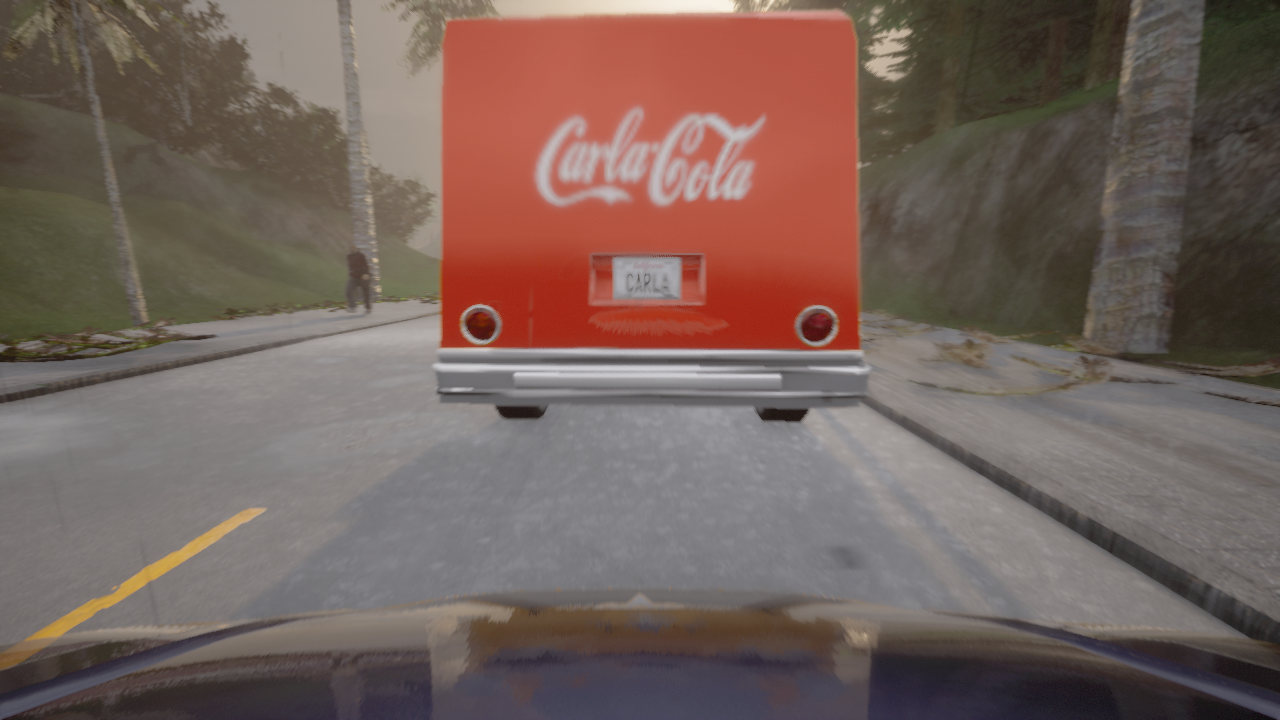cyclist: (433, 11, 871, 422), (0, 588, 1279, 719)
pedestrian: (345, 243, 371, 314)
